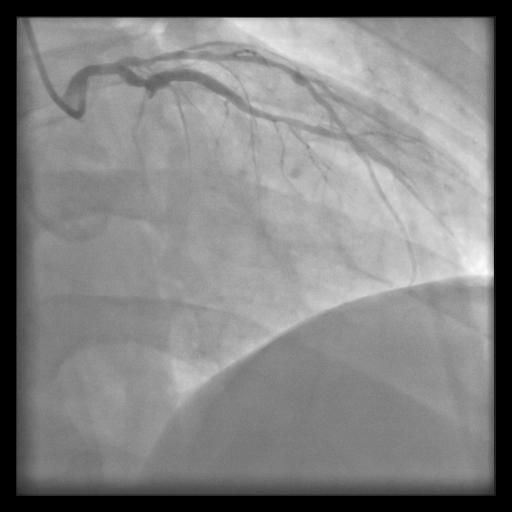Stenosis: (135, 72, 160, 100)
